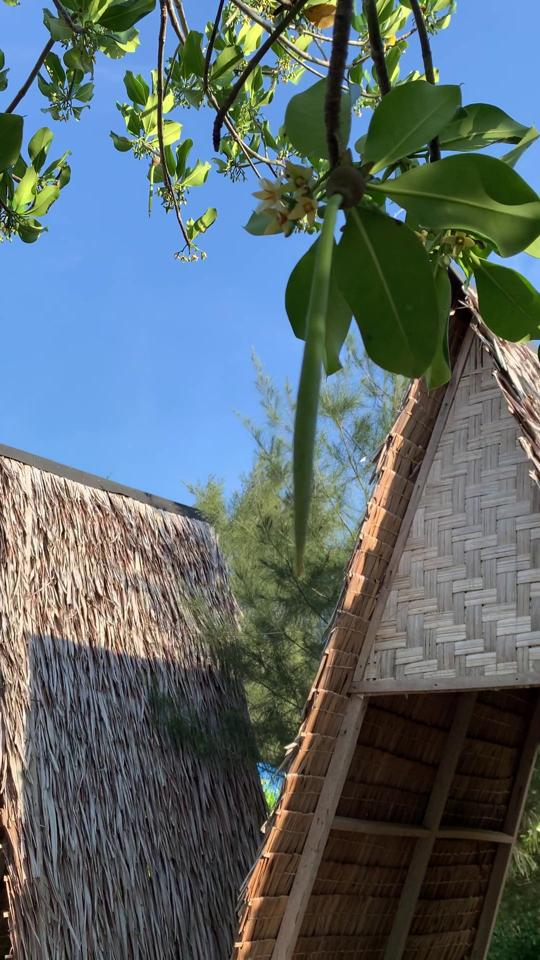mentah: (275, 137, 385, 592)
